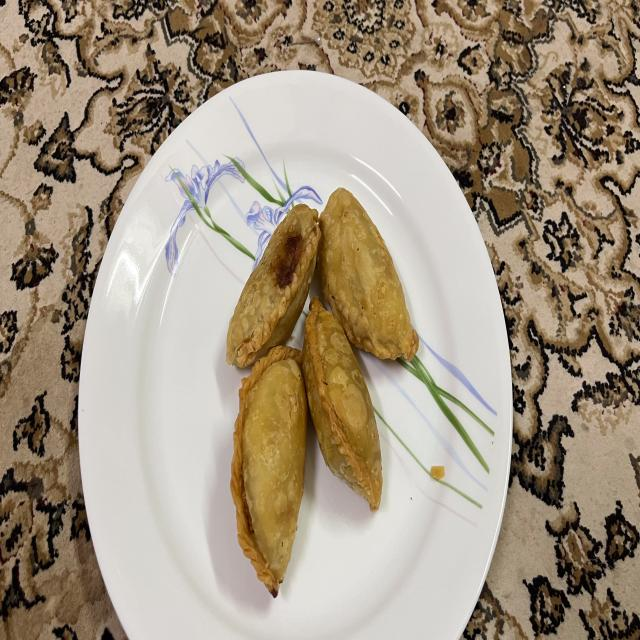karipap: (230, 347, 308, 598), (318, 189, 419, 360), (302, 298, 382, 511), (226, 204, 321, 367)
